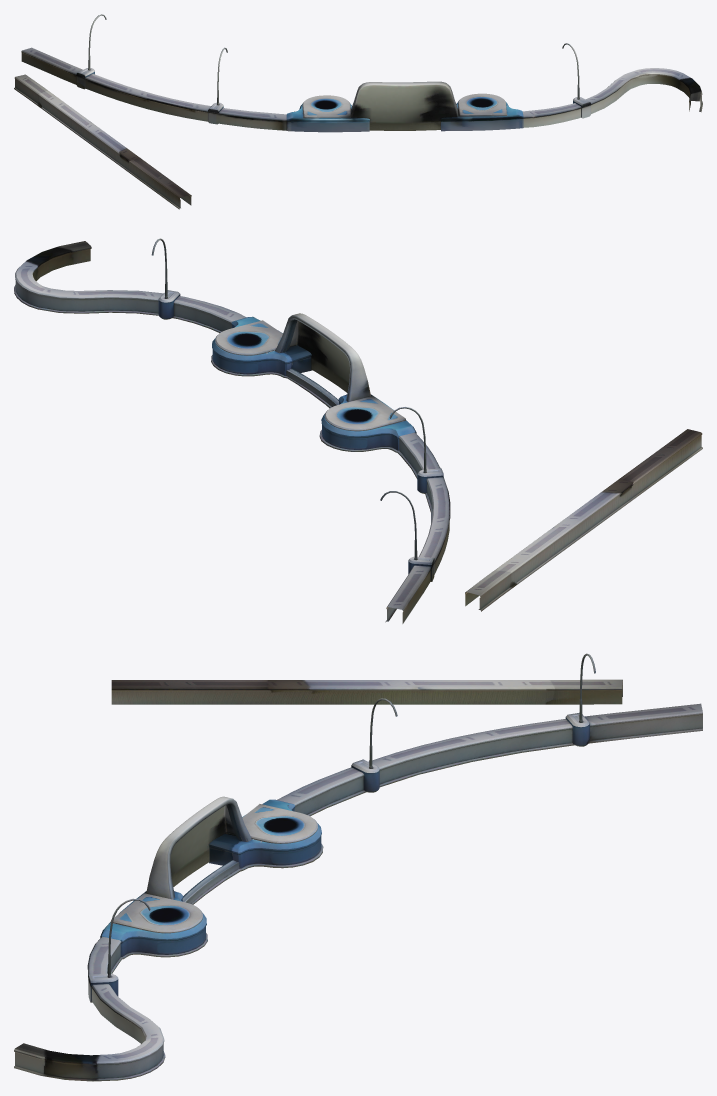
The model's file is pref_sm_4v4beachtech_bk_topblock_R01a_lv1.fbx.
3 renders of one model, top to bottom at view 1: azimuth 30°, elevation 25°; view 2: azimuth 150°, elevation 25°; view 3: azimuth 270°, elevation 25°, orthographic. The views are drawn at different scales.
Visible parts, largest first — view 1: sm_4v4beachtech_bk_topblock_R01a_lv1; view 2: sm_4v4beachtech_bk_topblock_R01a_lv1; view 3: sm_4v4beachtech_bk_topblock_R01a_lv1.
Boxes of the visible parts, x1,y1,x2,y2 form: sm_4v4beachtech_bk_topblock_R01a_lv1: (14, 14, 702, 209); sm_4v4beachtech_bk_topblock_R01a_lv1: (14, 238, 702, 623); sm_4v4beachtech_bk_topblock_R01a_lv1: (14, 653, 702, 1081).
Bounding box in the file's own units: 42.31 × 5.07 × 32.04.
1 material, 1 textured.
